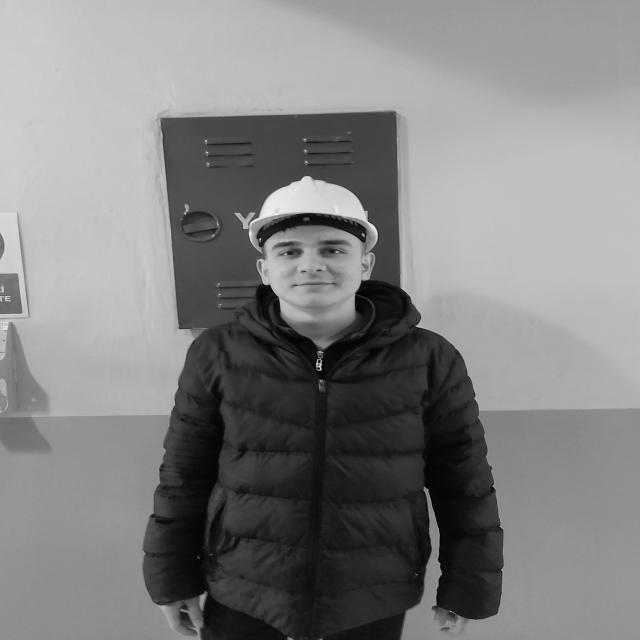safety_helmet: (247, 178, 379, 258)
